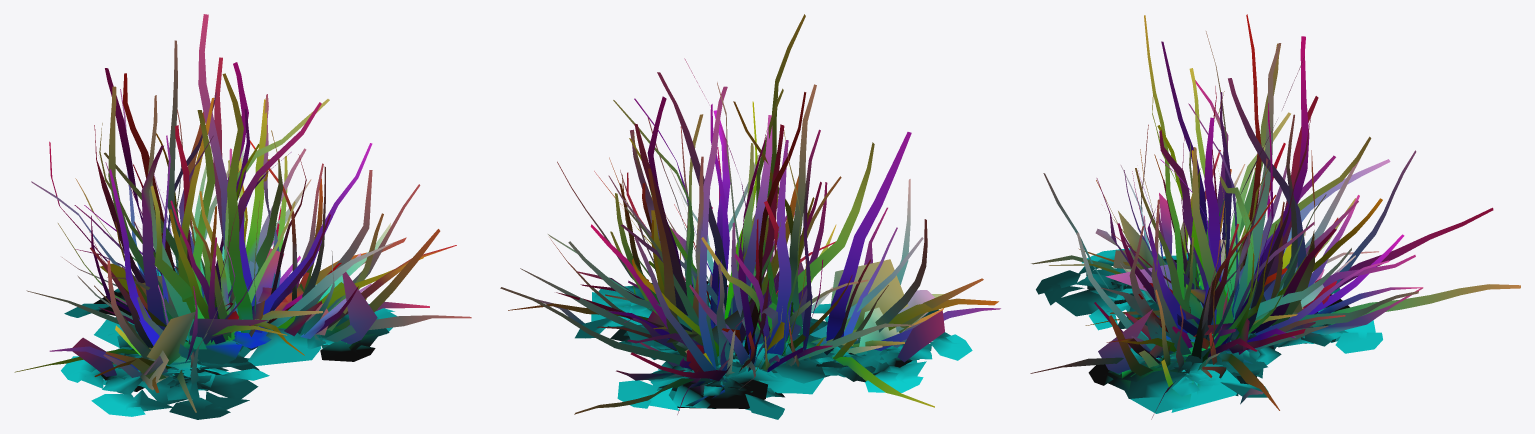
The model's file is Wild_Grass_vczndjqja_Low_vczndjqja_VarG_LOD0.fbx.
3 views of the same model, side by side, from view 1: azimuth 30°, elevation 25°; view 2: azimuth 150°, elevation 25°; view 3: azimuth 270°, elevation 25° (orthographic). The views are drawn at different scales.
Visible parts, largest first — view 1: _xp3c_VarG_LOD2; view 2: _xp3c_VarG_LOD2; view 3: _xp3c_VarG_LOD2.
Part boxes in pixels (x1,y1,x2,y2): _xp3c_VarG_LOD2: [14, 14, 471, 419]; _xp3c_VarG_LOD2: [500, 14, 1000, 419]; _xp3c_VarG_LOD2: [1030, 14, 1520, 419].
Bounding box in the file's own units: 118 × 86.32 × 123.
